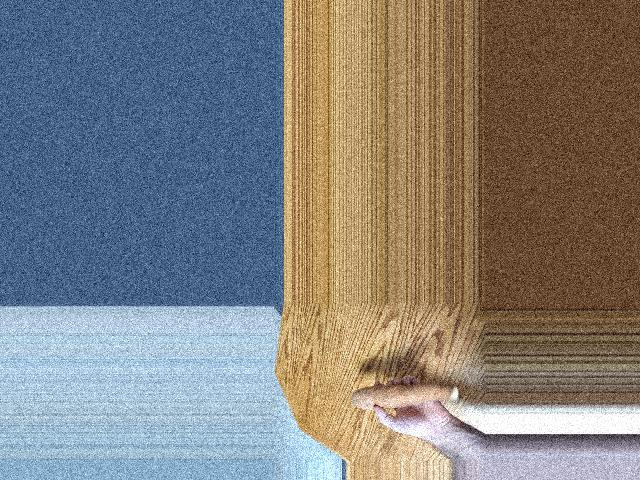sweet_potato: (351, 377, 450, 404)
